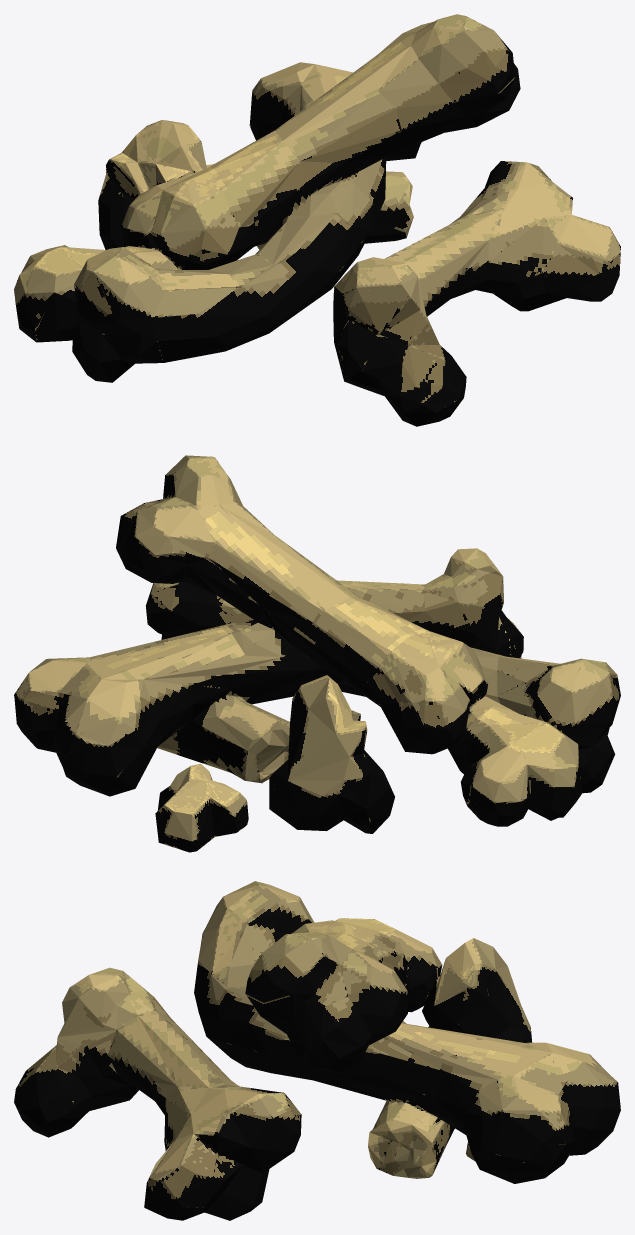
3 renders of one model, top to bottom at view 1: azimuth 30°, elevation 25°; view 2: azimuth 150°, elevation 25°; view 3: azimuth 270°, elevation 25°, orthographic. The views are drawn at different scales.
Parts seen in each view (by area): view 1: OBJ0c6; view 2: OBJ0c6; view 3: OBJ0c6.
Part boxes in pixels (x1,y1,x2,y2): OBJ0c6: (14, 14, 620, 426); OBJ0c6: (14, 455, 620, 852); OBJ0c6: (14, 881, 620, 1220).
Size of the model in its own units: 0.3681 by 0.1879 by 0.3746.
Materials: 1 (1 with a texture image).
